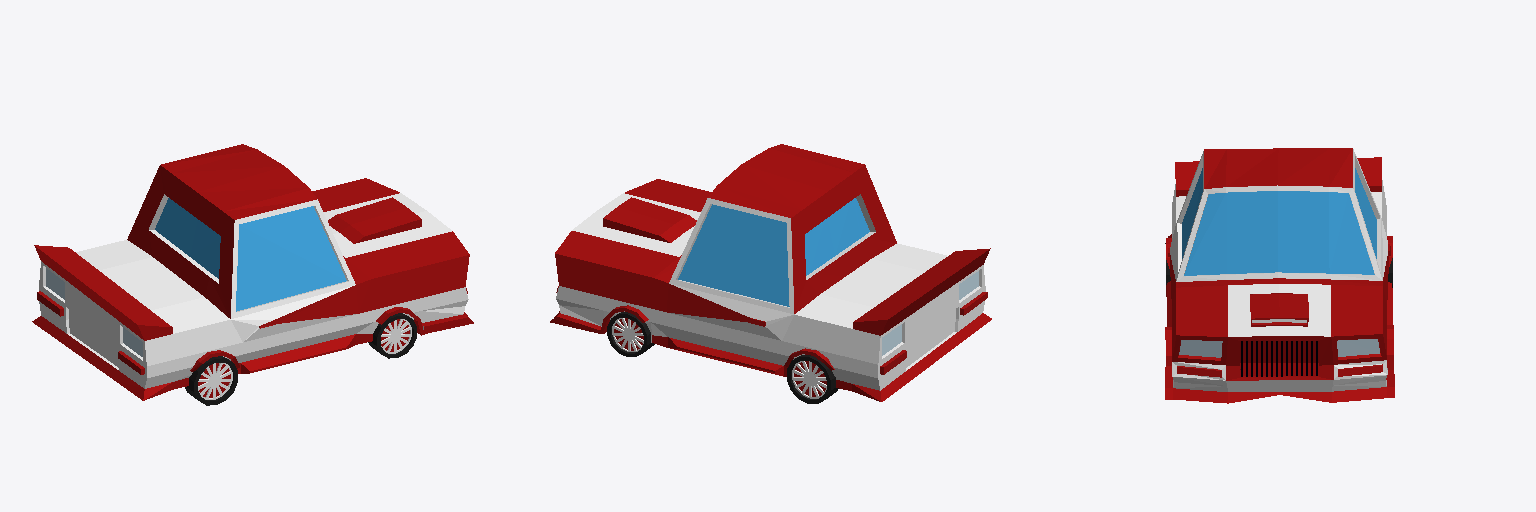
Rendered from racingCar.obj.
3 views of the same model, side by side, from view 1: azimuth 30°, elevation 25°; view 2: azimuth 150°, elevation 25°; view 3: azimuth 270°, elevation 25° (orthographic).
Parts seen in each view (by area): view 1: body, wheel.1, wheel1.1, backlight; view 2: body, wheel.1, wheel1.1, backlight; view 3: body, headlight, lattice.1, front_fender.
Part boxes in pixels (left/top/right/bottom): body: left=32, top=144, right=473, bottom=400; wheel.1: left=185, top=356, right=237, bottom=405; wheel1.1: left=368, top=313, right=416, bottom=358; backlight: left=46, top=268, right=142, bottom=356; body: left=550, top=144, right=991, bottom=401; wheel.1: left=787, top=355, right=838, bottom=403; wheel1.1: left=607, top=312, right=654, bottom=356; backlight: left=882, top=271, right=978, bottom=355; body: left=1165, top=148, right=1394, bottom=403; headlight: left=1179, top=339, right=1379, bottom=357; lattice.1: left=1241, top=341, right=1317, bottom=376; front_fender: left=1165, top=325, right=1393, bottom=369.
Size of the model in its own units: 237 by 111 by 138.